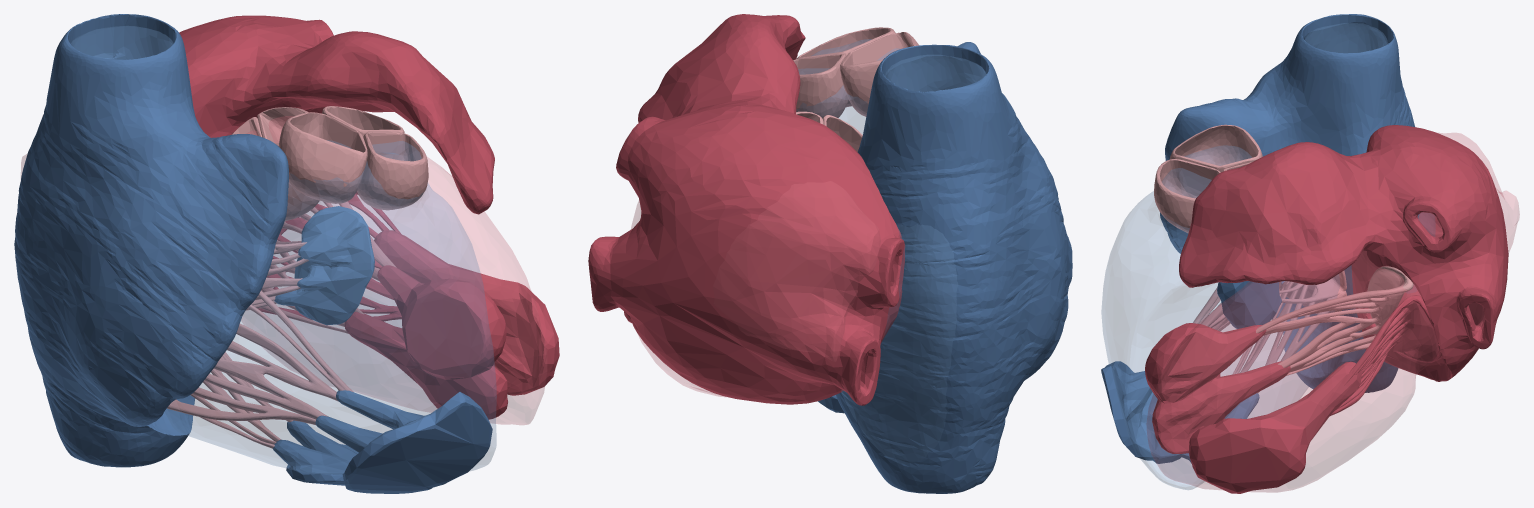
The model's file is bodyparts-heart.glb.
3 renders of one model, left to right at view 1: azimuth 30°, elevation 25°; view 2: azimuth 150°, elevation 25°; view 3: azimuth 270°, elevation 25°, orthographic. The views are drawn at different scales.
Parts seen in each view (by area): view 1: FJ2439 anatomical mesh, FJ2423 anatomical mesh, FJ2422 anatomical mesh, FJ2438 anatomical mesh, FJ2418 anatomical mesh, FJ2419 anatomical mesh, FJ2429 anatomical mesh, FJ2421 anatomical mesh, FJ2437 anatomical mesh, FJ2434 anatomical mesh, FJ2417 anatomical mesh, FJ2430 anatomical mesh (+8 smaller); view 2: FJ2438 anatomical mesh, FJ2439 anatomical mesh, FJ2425 anatomical mesh, FJ2424 anatomical mesh, FJ2427 anatomical mesh, FJ2434 anatomical mesh, FJ2423 anatomical mesh, FJ2417 anatomical mesh, FJ2435 anatomical mesh, FJ2422 anatomical mesh; view 3: FJ2438 anatomical mesh, FJ2422 anatomical mesh, FJ2423 anatomical mesh, FJ2439 anatomical mesh, FJ2418 anatomical mesh, FJ2429 anatomical mesh, FJ2420 anatomical mesh, FJ2432 anatomical mesh, FJ2419 anatomical mesh, FJ2417 anatomical mesh, FJ2434 anatomical mesh, FJ2437 anatomical mesh (+6 smaller).
Part boxes in pixels (box(x1,y1,x2,y2)): FJ2439 anatomical mesh: box(14, 14, 288, 467); FJ2423 anatomical mesh: box(164, 140, 496, 473); FJ2422 anatomical mesh: box(241, 116, 546, 424); FJ2438 anatomical mesh: box(179, 15, 494, 234); FJ2418 anatomical mesh: box(344, 265, 507, 419); FJ2419 anatomical mesh: box(315, 390, 492, 493); FJ2429 anatomical mesh: box(374, 230, 559, 395); FJ2421 anatomical mesh: box(167, 290, 353, 424); FJ2437 anatomical mesh: box(274, 206, 374, 325); FJ2434 anatomical mesh: box(279, 112, 367, 203); FJ2417 anatomical mesh: box(357, 132, 428, 210); FJ2430 anatomical mesh: box(272, 420, 358, 485); FJ2438 anatomical mesh: box(588, 14, 905, 405); FJ2439 anatomical mesh: box(836, 42, 1072, 493); FJ2425 anatomical mesh: box(713, 181, 880, 361); FJ2424 anatomical mesh: box(841, 55, 985, 463); FJ2427 anatomical mesh: box(793, 54, 848, 118); FJ2434 anatomical mesh: box(840, 32, 919, 116); FJ2423 anatomical mesh: box(796, 39, 899, 134); FJ2417 anatomical mesh: box(797, 27, 895, 107); FJ2435 anatomical mesh: box(822, 115, 862, 151); FJ2422 anatomical mesh: box(631, 201, 724, 396); FJ2438 anatomical mesh: box(1179, 125, 1508, 381); FJ2422 anatomical mesh: box(1146, 250, 1437, 492); FJ2423 anatomical mesh: box(1101, 145, 1339, 489); FJ2439 anatomical mesh: box(1160, 14, 1419, 392); FJ2418 anatomical mesh: box(1145, 323, 1290, 453); FJ2429 anatomical mesh: box(1188, 361, 1361, 493); FJ2420 anatomical mesh: box(1256, 266, 1413, 375); FJ2432 anatomical mesh: box(1330, 295, 1441, 415); FJ2419 anatomical mesh: box(1101, 361, 1181, 463); FJ2417 anatomical mesh: box(1154, 159, 1220, 233); FJ2434 anatomical mesh: box(1169, 124, 1262, 172); FJ2437 anatomical mesh: box(1217, 281, 1281, 329).
Bounding box in the file's own units: 7.58 × 7.07 × 7.43.
